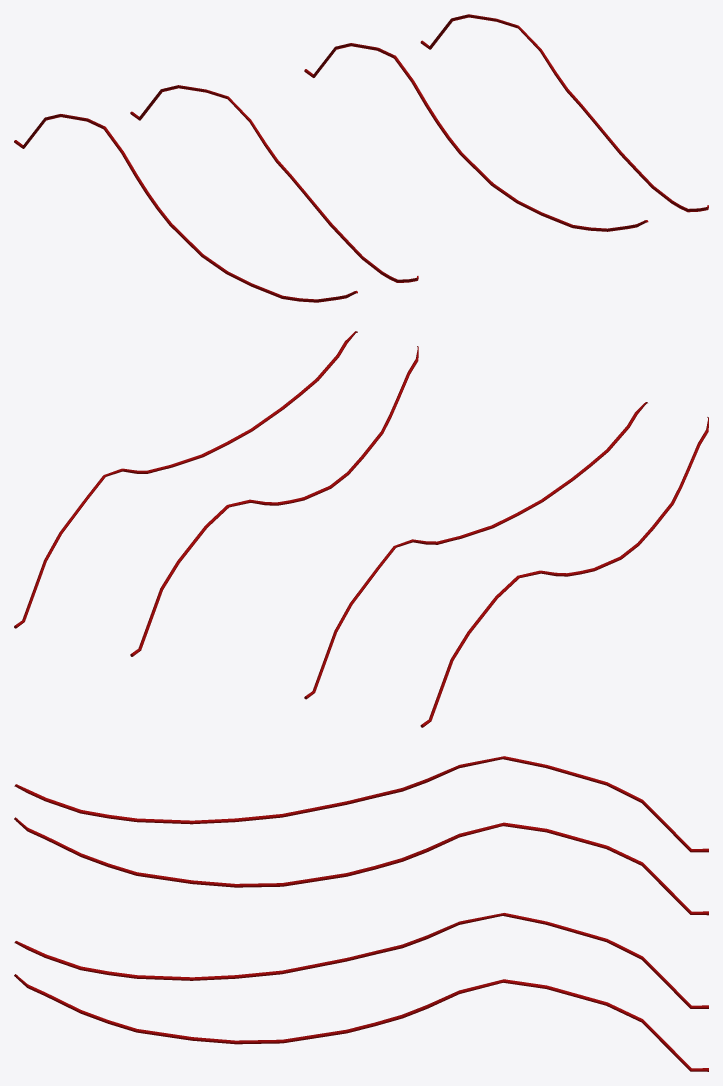
Rendered from Rope.fbx.
The picture shows the model from 3 angles, top to bottom: view 1: azimuth 30°, elevation 25°; view 2: azimuth 150°, elevation 25°; view 3: azimuth 270°, elevation 25°; orthographic projection. The views are drawn at different scales.
Parts seen in each view (by area): view 1: pCube18.001; view 2: pCube18.001; view 3: pCube18.001.
Part boxes in pixels (x1=…): pCube18.001: x1=14, y1=14, x2=708, y2=302; pCube18.001: x1=14, y1=331, x2=708, y2=727; pCube18.001: x1=14, y1=756, x2=708, y2=1071.
Bounding box in the file's own units: 90093 × 17180 × 115050.
